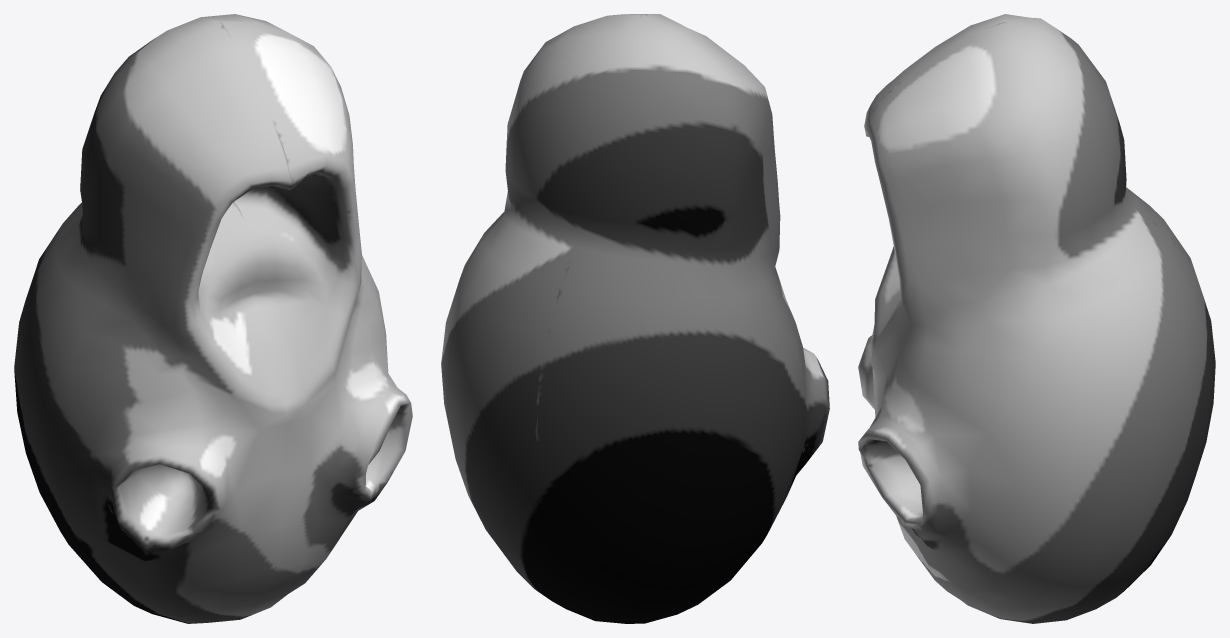
The model's file is Spirit 1.fbx.
The picture shows the model from 3 angles, left to right: view 1: azimuth 30°, elevation 25°; view 2: azimuth 150°, elevation 25°; view 3: azimuth 270°, elevation 25°; orthographic projection. The views are drawn at different scales.
Visible parts, largest first — view 1: Hood_low; view 2: Hood_low; view 3: Hood_low.
Boxes of the visible parts, left/top/right/bottom form: Hood_low: left=14, top=14, right=412, bottom=623; Hood_low: left=441, top=14, right=829, bottom=623; Hood_low: left=858, top=14, right=1215, bottom=623.
Size of the model in its own units: 2.2 by 3.81 by 2.09.
Materials: 1 (1 with a texture image).
